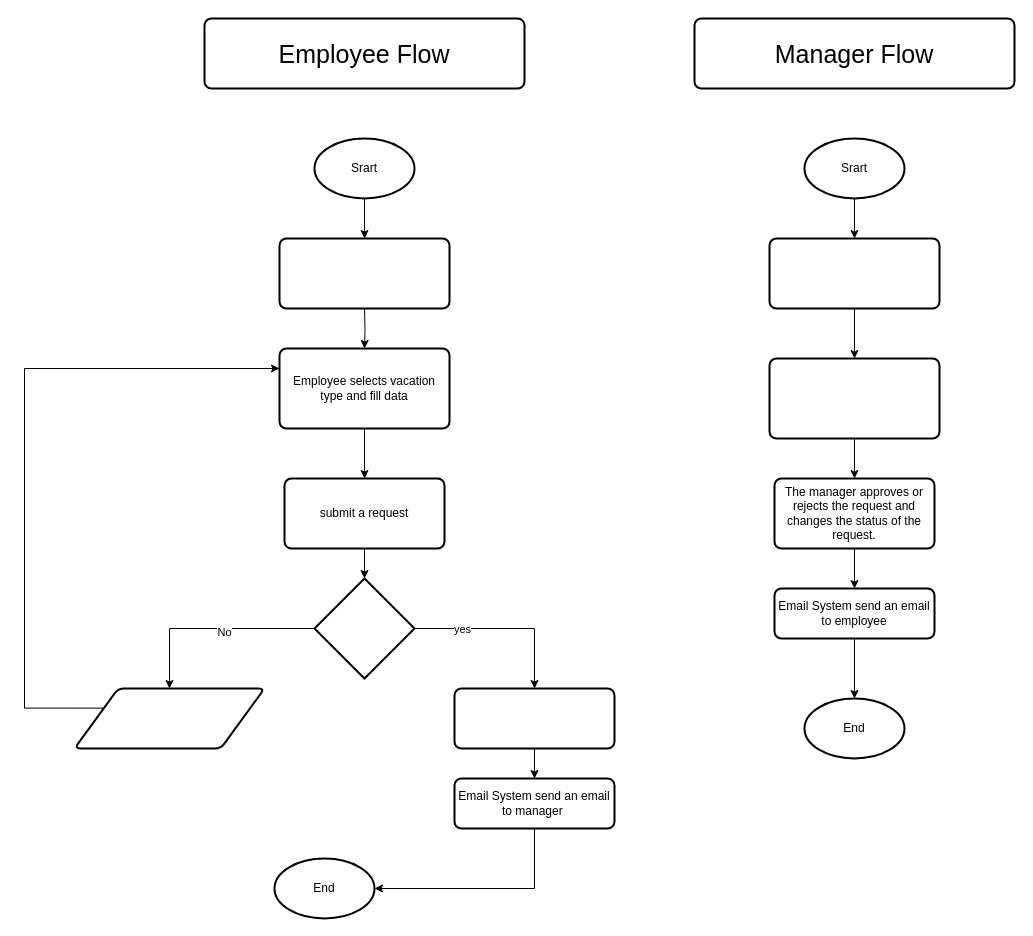
The diagram is 1033 pixels wide and 936 high, and some of its shapes have lost their labels. Here are the shapes that lost their labels. From the top down, the box of each, then its label:
(278, 237, 450, 309): Employee Login
(768, 237, 940, 309): Manager Login
(768, 357, 940, 439): Manager selects request to approve or reject
(313, 577, 415, 679): is valid ?
(73, 687, 265, 749): Display Errors
(453, 687, 615, 749): Save In DB
